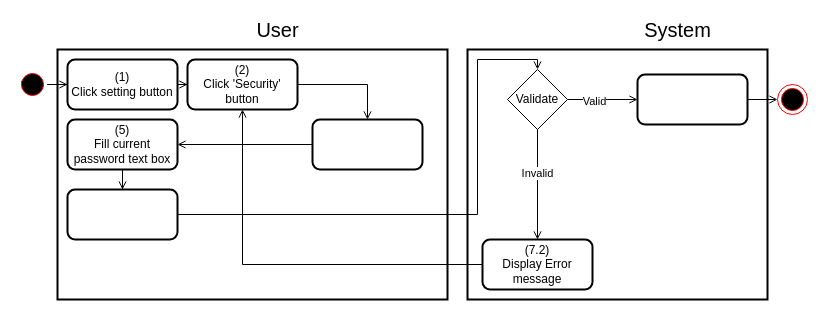
The diagram is 825 pixels wide and 317 high, and some of its shapes have lost their labels. The centre of each missing label's shape, as x and y in pixels:
(4) Click 'Lock Account' button: point (367, 144)
(6) Click 'Confirm' button: point (122, 214)
(7.1) Save account status = locked: point (692, 99)
